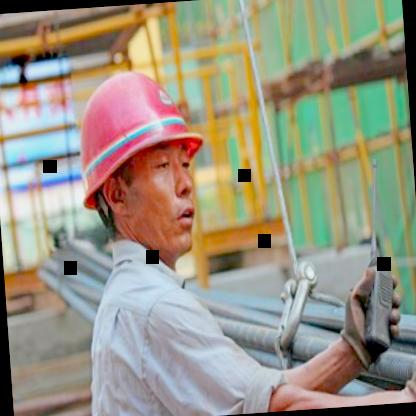helmet: (57, 43, 225, 279)
